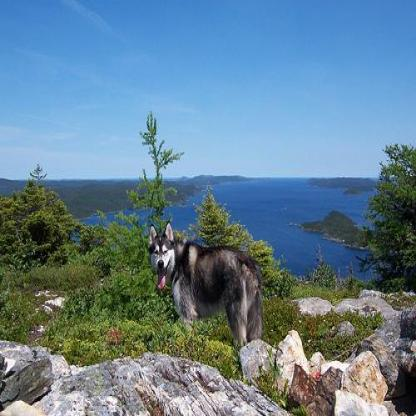malamute: (143, 220, 263, 345)
